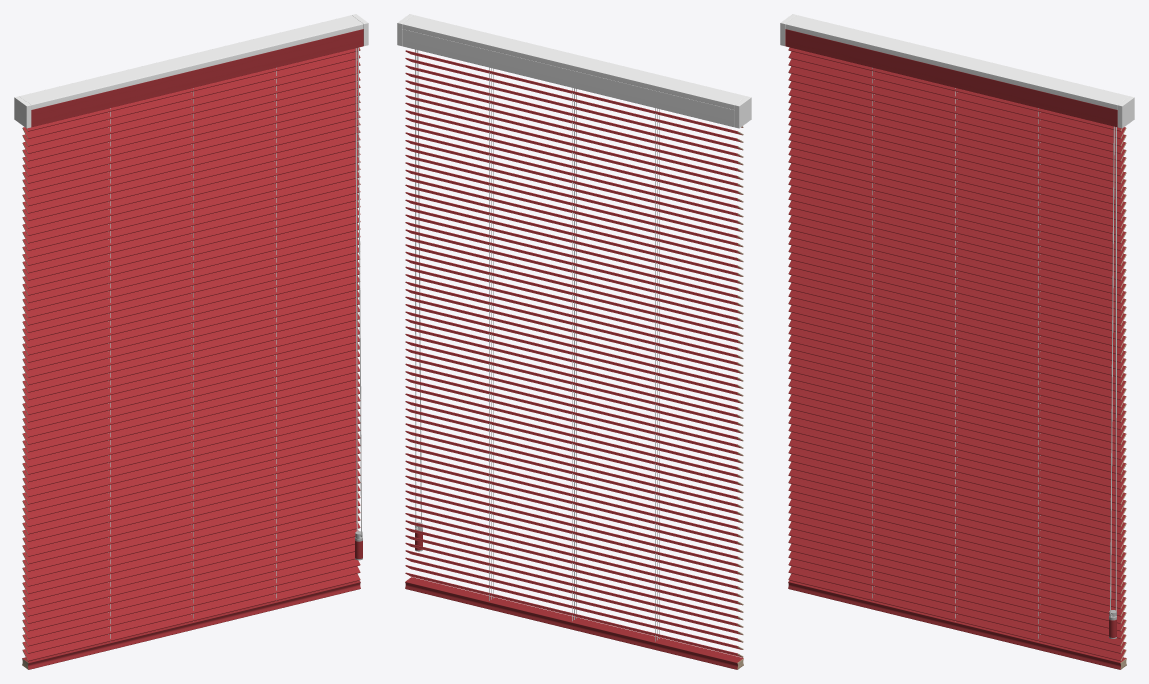
File: MEGA_PACK_Window__shelf-33580-14.glb
3 views of the same model, side by side, from view 1: azimuth 30°, elevation 25°; view 2: azimuth 150°, elevation 25°; view 3: azimuth 330°, elevation 25° (orthographic).
Visible parts, largest first — view 1: shelf-33580-14; view 2: shelf-33580-14; view 3: shelf-33580-14.
Boxes of the visible parts, bbox=[...] form: shelf-33580-14: bbox=[14, 14, 368, 669]; shelf-33580-14: bbox=[397, 14, 751, 669]; shelf-33580-14: bbox=[780, 14, 1134, 669].
Bounding box in the file's own units: 1.44 × 2.28 × 0.1094.
1 material, 1 textured.
